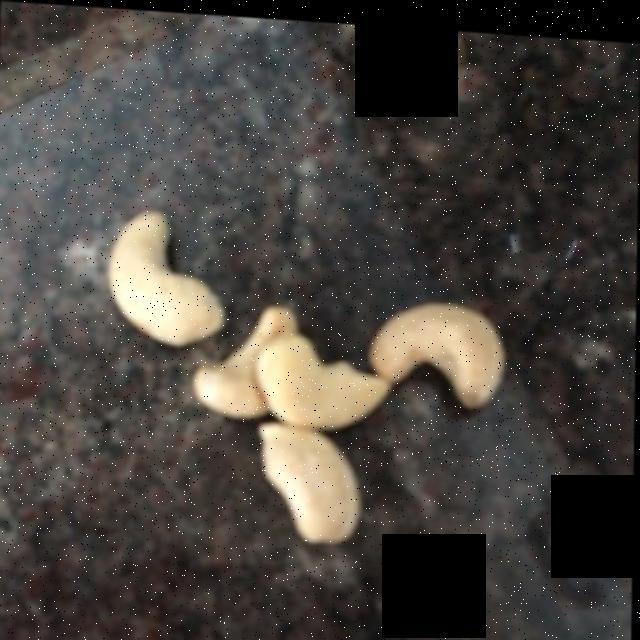cashew-nut: (115, 202, 499, 545)
